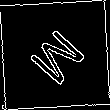M_SE: (21, 21, 89, 89)
